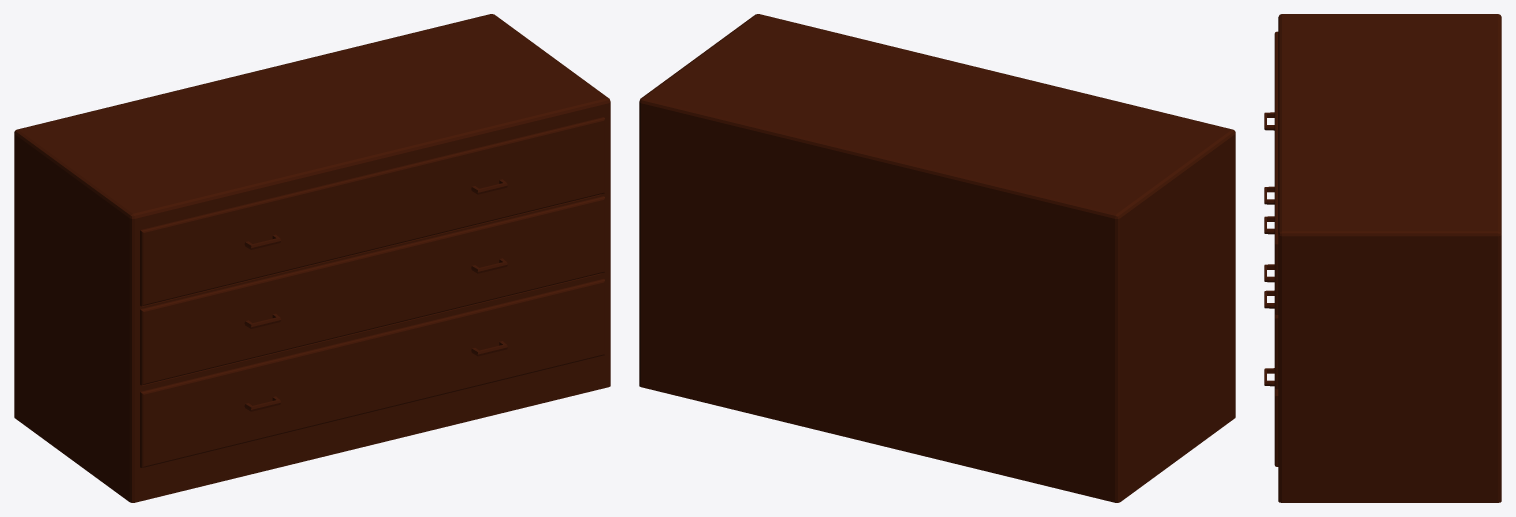
The model's file is CorridorCabinet.fbx.
The picture shows the model from 3 angles, left to right: view 1: azimuth 30°, elevation 25°; view 2: azimuth 150°, elevation 25°; view 3: azimuth 270°, elevation 25°; orthographic projection. The views are drawn at different scales.
Parts seen in each view (by area): view 1: CorridorCabinet, DrawerTop, DrawerBottom, DrawerMiddle; view 2: CorridorCabinet; view 3: CorridorCabinet, DrawerTop, DrawerBottom, DrawerMiddle.
Part boxes in pixels (box(x1,y1,x2,y2)): CorridorCabinet: box(14, 14, 610, 502); DrawerTop: box(140, 117, 604, 306); DrawerBottom: box(140, 279, 604, 467); DrawerMiddle: box(140, 196, 604, 385); CorridorCabinet: box(639, 14, 1235, 502); CorridorCabinet: box(1278, 14, 1501, 502); DrawerTop: box(1264, 31, 1278, 314); DrawerBottom: box(1264, 264, 1278, 466); DrawerMiddle: box(1264, 186, 1278, 389).
Bounding box in the file's own units: 140 × 80 × 63.8.
